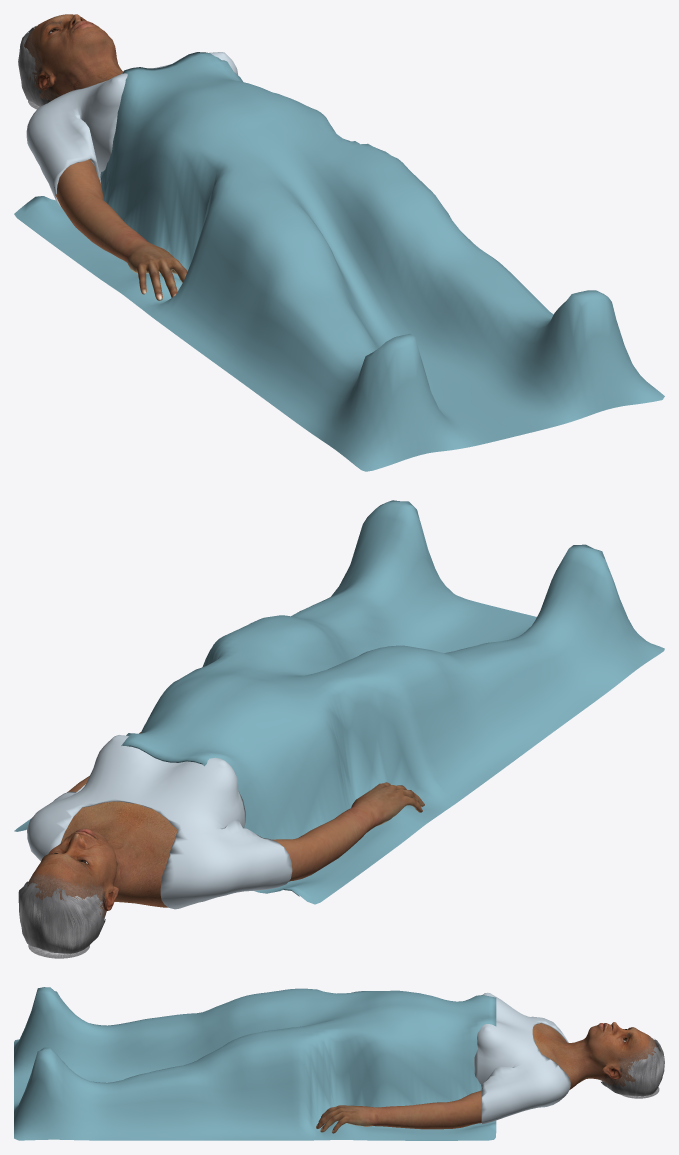
3 views of the same model, one above another, from view 1: azimuth 30°, elevation 25°; view 2: azimuth 150°, elevation 25°; view 3: azimuth 270°, elevation 25° (orthographic). The views are drawn at different scales.
Visible parts, largest first — view 1: sheet, gown, arms, body, hair; view 2: sheet, gown, body, arms, hair; view 3: sheet, gown, body, arms, hair.
Boxes of the visible parts, bbox=[...] form: sheet: bbox=[14, 52, 664, 471]; gown: bbox=[26, 52, 237, 206]; arms: bbox=[55, 159, 187, 300]; body: bbox=[24, 14, 122, 101]; hair: bbox=[18, 26, 50, 109]; sheet: bbox=[14, 500, 664, 904]; gown: bbox=[27, 735, 292, 909]; body: bbox=[27, 801, 177, 917]; arms: bbox=[67, 732, 424, 881]; hair: bbox=[18, 881, 105, 958]; sheet: bbox=[14, 987, 496, 1140]; gown: bbox=[474, 992, 570, 1124]; body: bbox=[532, 1022, 656, 1089]; arms: bbox=[316, 1090, 481, 1133]; hair: bbox=[601, 1039, 664, 1098].
Bounding box in the file's own units: 0.6377 × 0.263 × 1.73.
7 materials, 5 textured.
